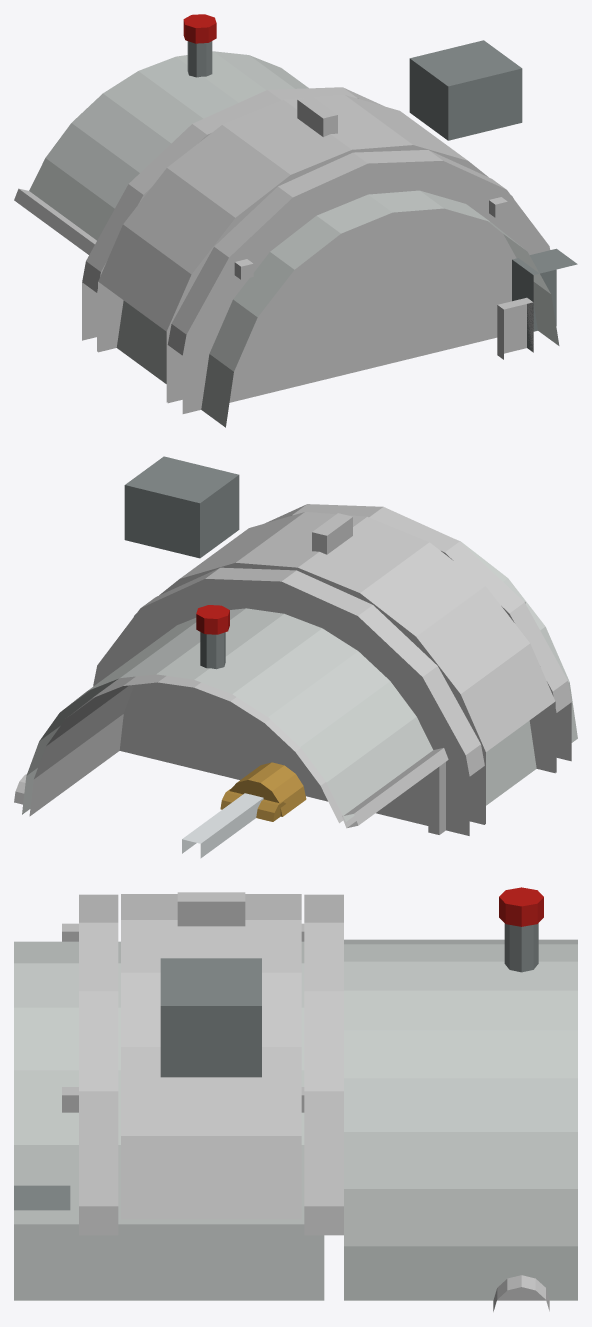
Rendered from cell_92.obj.
The picture shows the model from 3 angles, top to bottom: view 1: azimuth 30°, elevation 25°; view 2: azimuth 150°, elevation 25°; view 3: azimuth 270°, elevation 25°; orthographic projection. The views are drawn at different scales.
Size of the model in its own units: 1 by 0.6 by 1.
